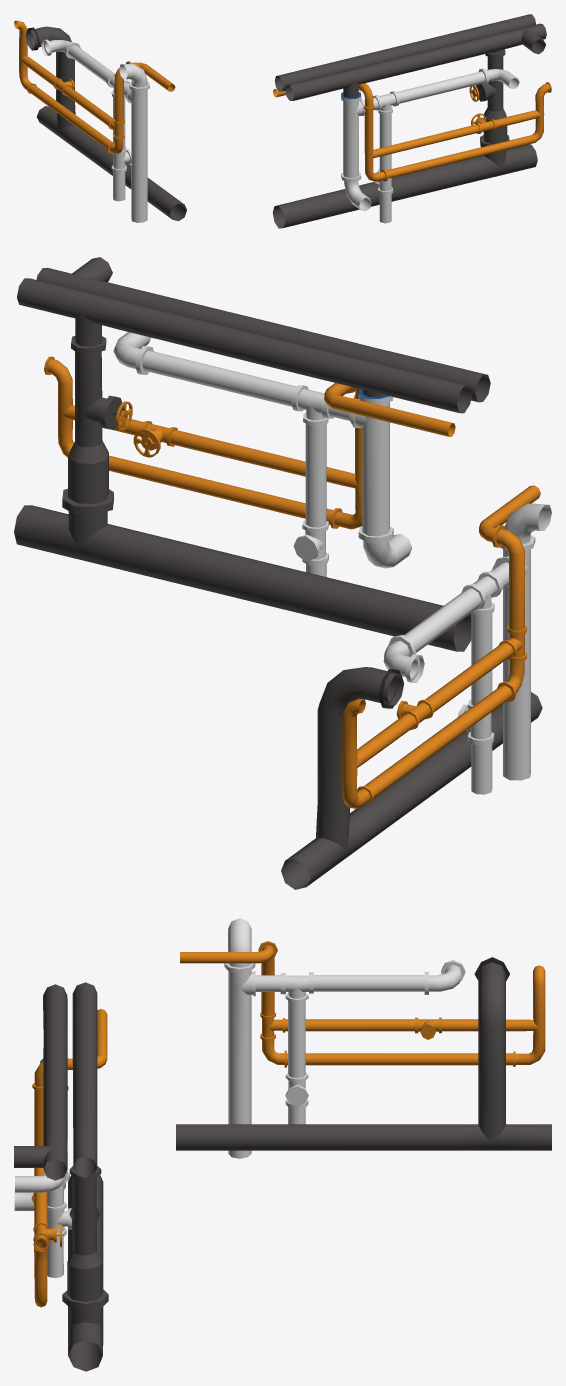
Rendered from SM_H_Building_Tide_Stairs_07a_ATLAS.fbx.
3 views of the same model, one above another, from view 1: azimuth 30°, elevation 25°; view 2: azimuth 150°, elevation 25°; view 3: azimuth 270°, elevation 25° (orthographic). The views are drawn at different scales.
Parts seen in each view (by area): view 1: SM_H_Building_Tide_Stairs_07a_ATLAS; view 2: SM_H_Building_Tide_Stairs_07a_ATLAS; view 3: SM_H_Building_Tide_Stairs_07a_ATLAS.
Boxes of the visible parts, left/top/right/bottom form: SM_H_Building_Tide_Stairs_07a_ATLAS: left=14, top=14, right=551, bottom=228; SM_H_Building_Tide_Stairs_07a_ATLAS: left=14, top=257, right=551, bottom=889; SM_H_Building_Tide_Stairs_07a_ATLAS: left=14, top=918, right=551, bottom=1371.
Size of the model in its own units: 1136 by 1045 by 492.
